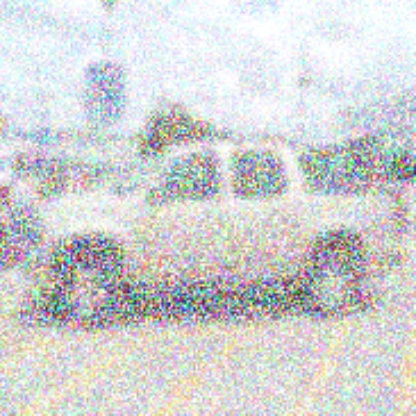Vehicle: (24, 142, 407, 329)
